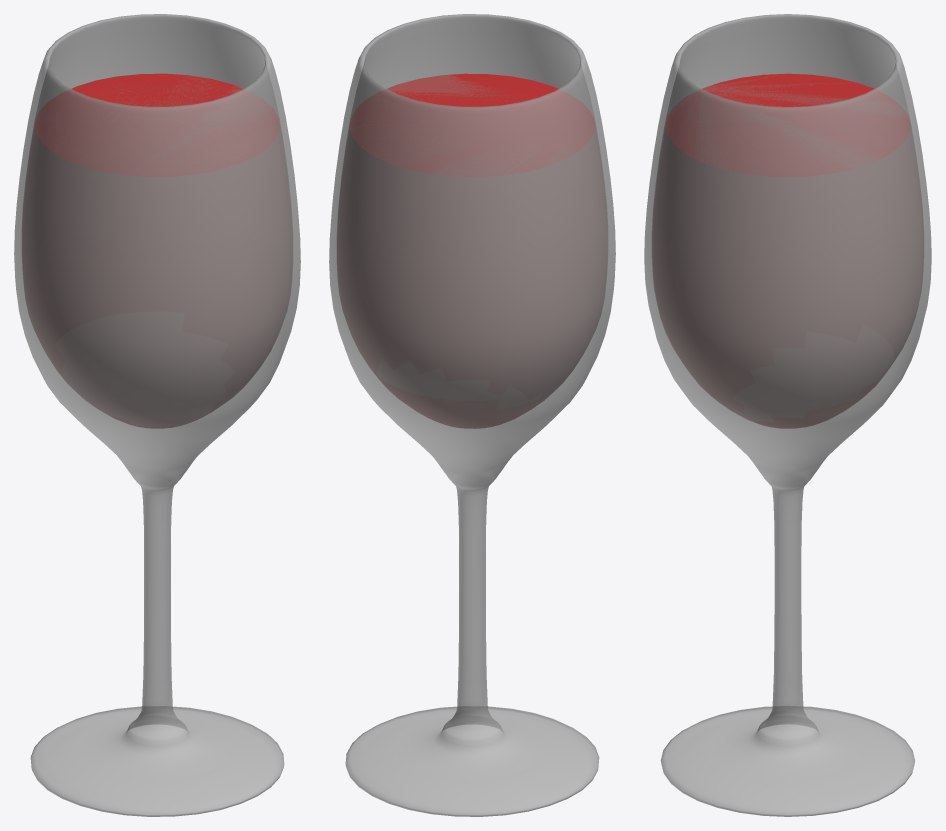
The model's file is Red_Wine.fbx.
3 views of the same model, side by side, from view 1: azimuth 30°, elevation 25°; view 2: azimuth 150°, elevation 25°; view 3: azimuth 270°, elevation 25° (orthographic).
Visible parts, largest first — view 1: Glass_Of_Red_Wiine; view 2: Glass_Of_Red_Wiine; view 3: Glass_Of_Red_Wiine.
Boxes of the visible parts, left/top/right/bottom form: Glass_Of_Red_Wiine: left=14, top=14, right=300, bottom=816; Glass_Of_Red_Wiine: left=329, top=14, right=615, bottom=816; Glass_Of_Red_Wiine: left=644, top=14, right=931, bottom=816.
Size of what is drawn, in the model's own units: 5.71 by 15.47 by 5.71.
